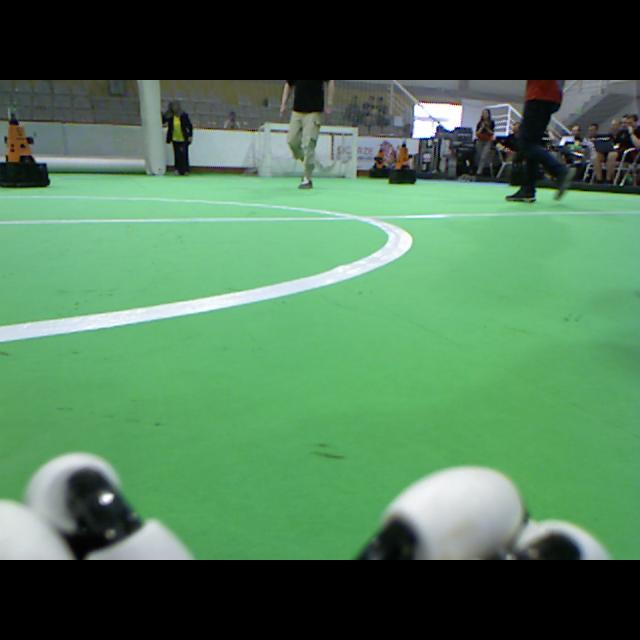goal: (265, 125, 272, 177), (352, 127, 358, 178)
robot: (1, 107, 51, 189), (389, 139, 417, 183), (370, 145, 391, 178)
